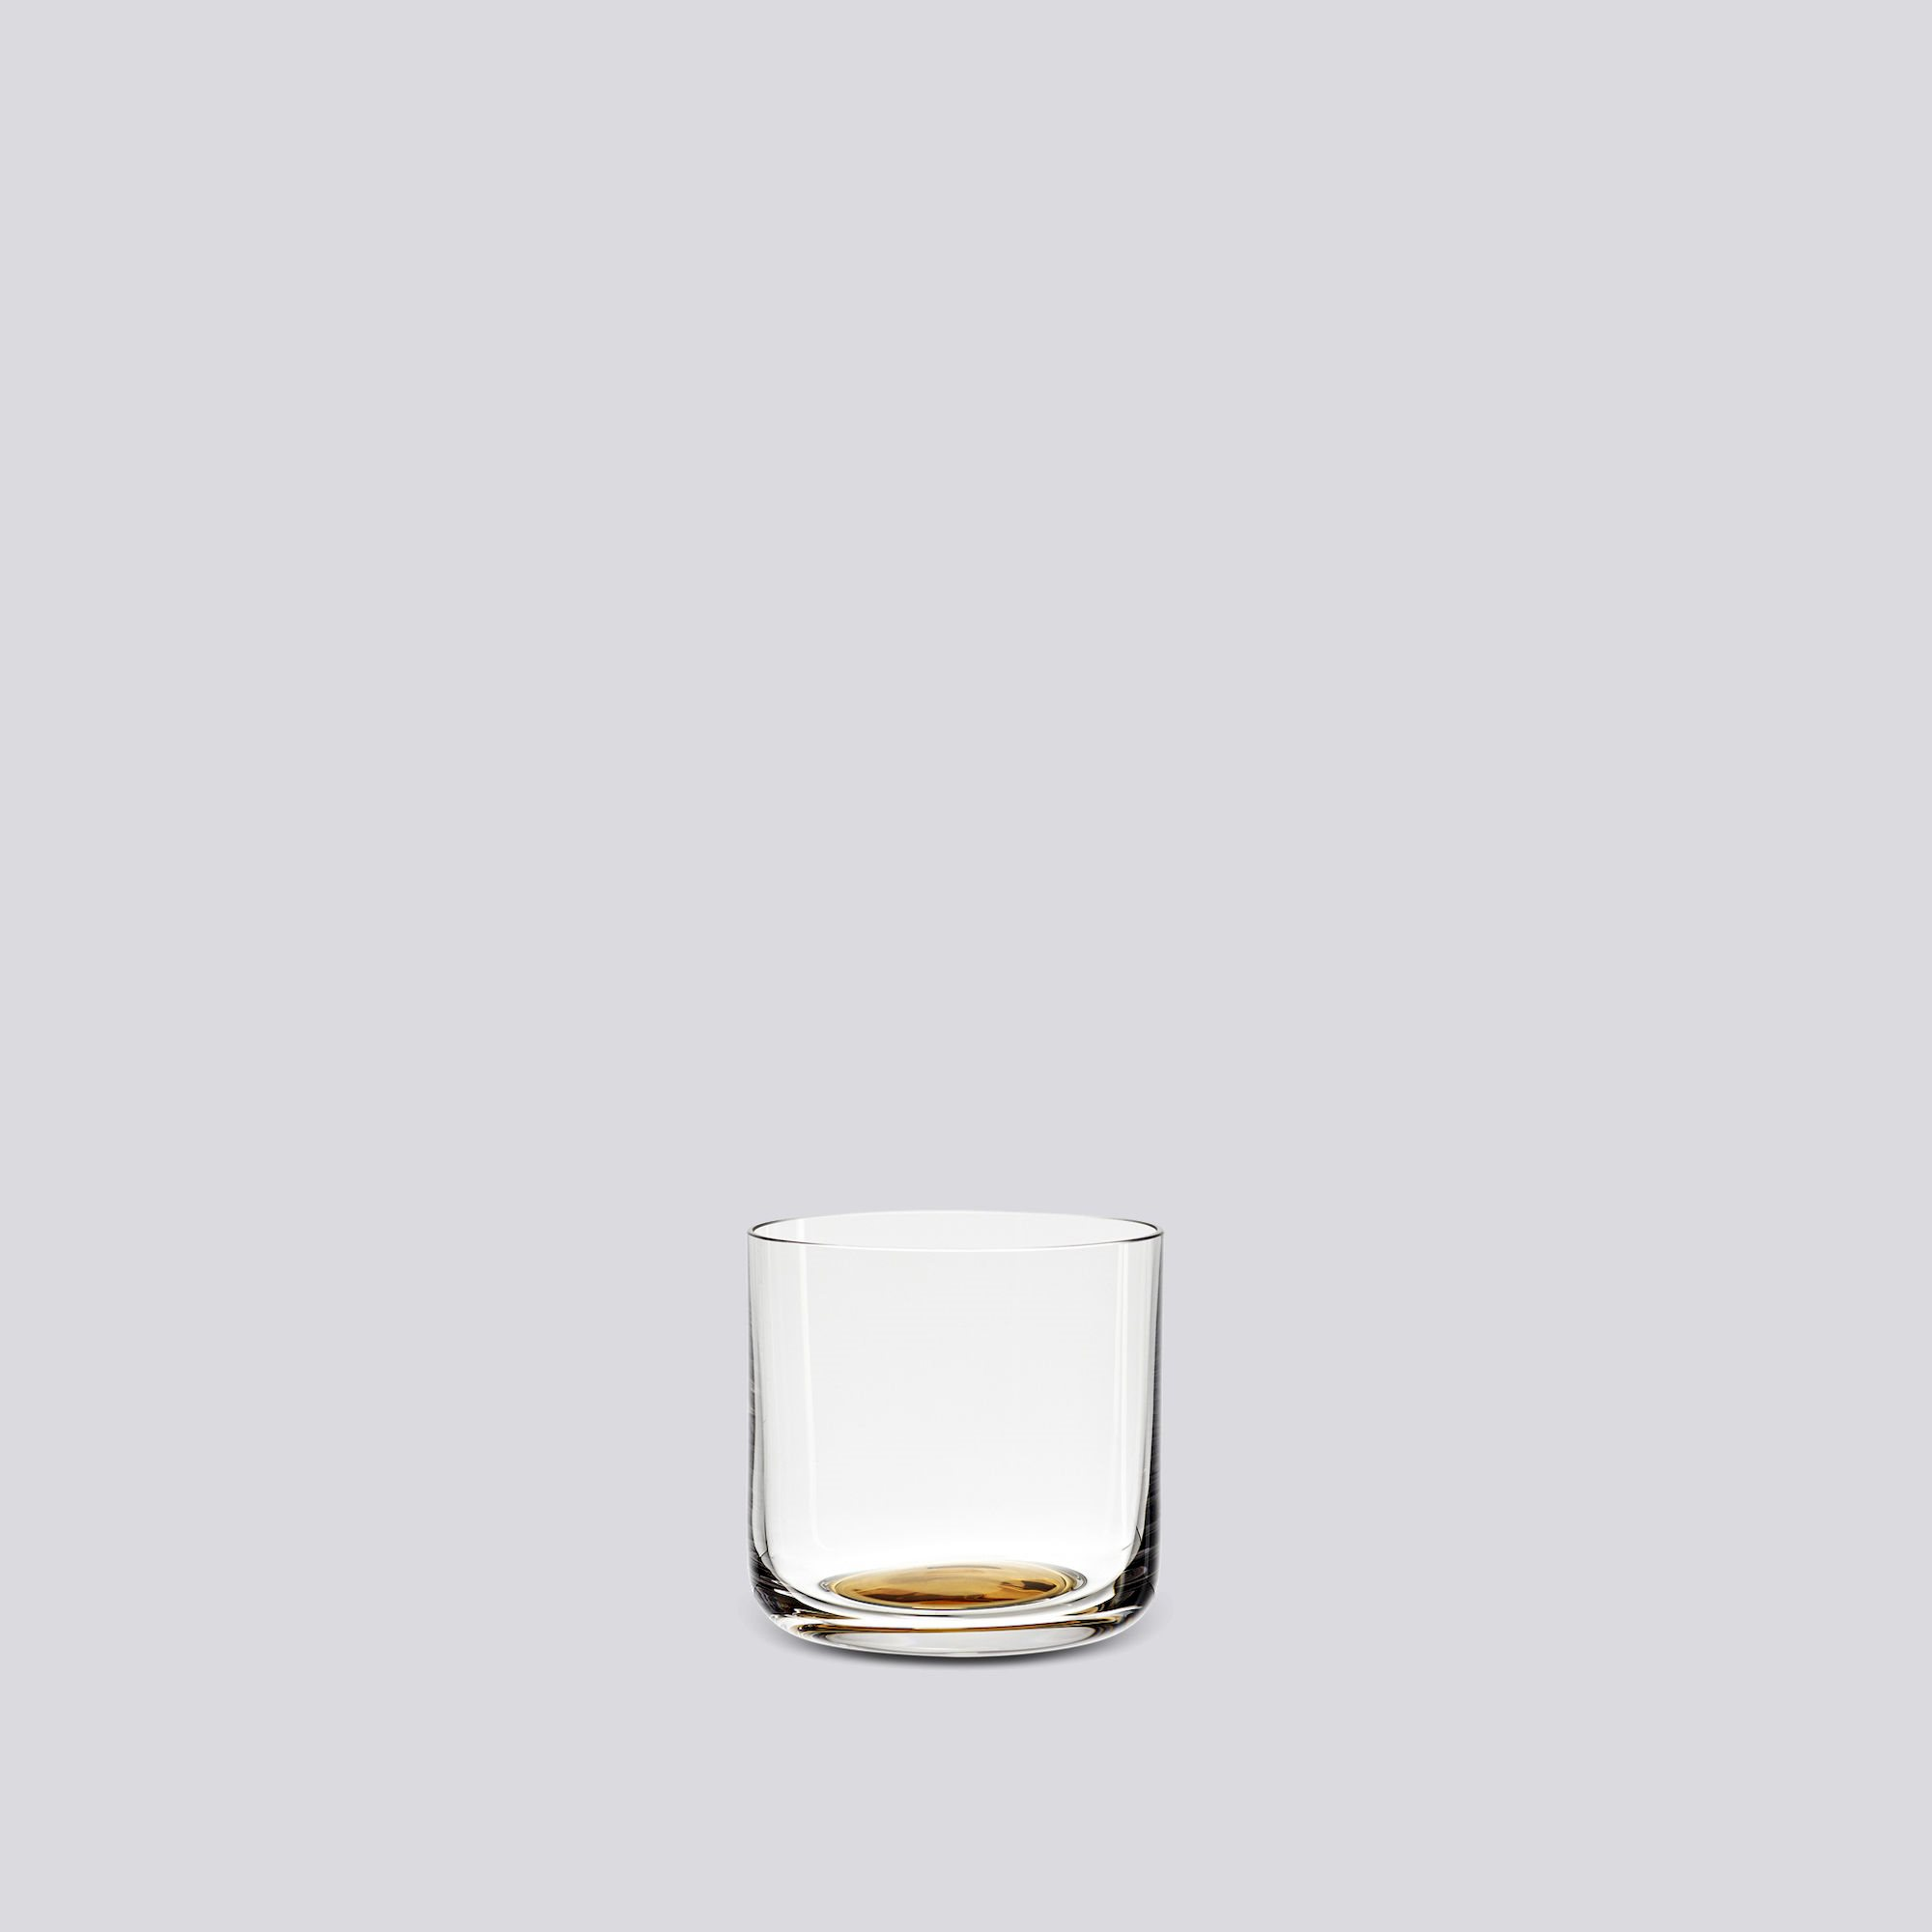glass of water: (708, 1175, 1194, 1670)
